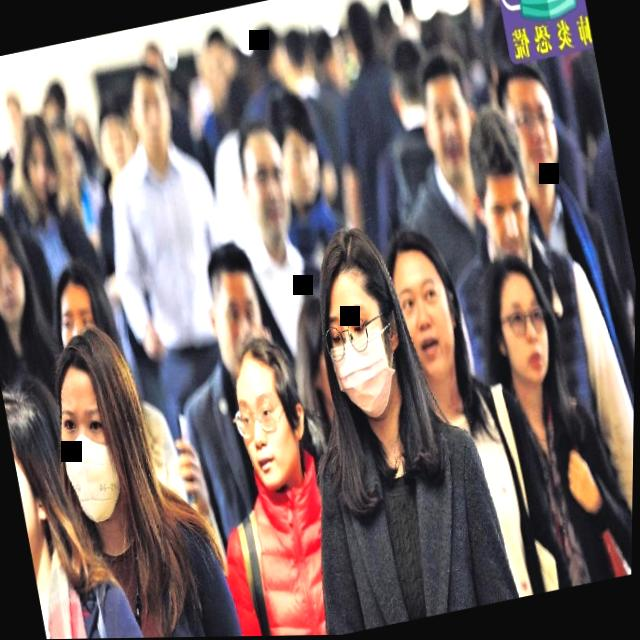Mask: (37, 323, 167, 532), (306, 219, 416, 413)
NO-Mask: (210, 323, 326, 500), (376, 219, 479, 399), (181, 239, 282, 388), (458, 111, 545, 272), (477, 251, 572, 397), (407, 50, 490, 192), (228, 122, 305, 264), (491, 63, 571, 192), (261, 83, 335, 214), (4, 111, 72, 225), (119, 63, 183, 170), (0, 202, 39, 341)
